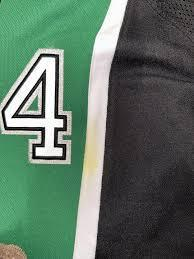lipstick: (86, 121, 100, 179)
